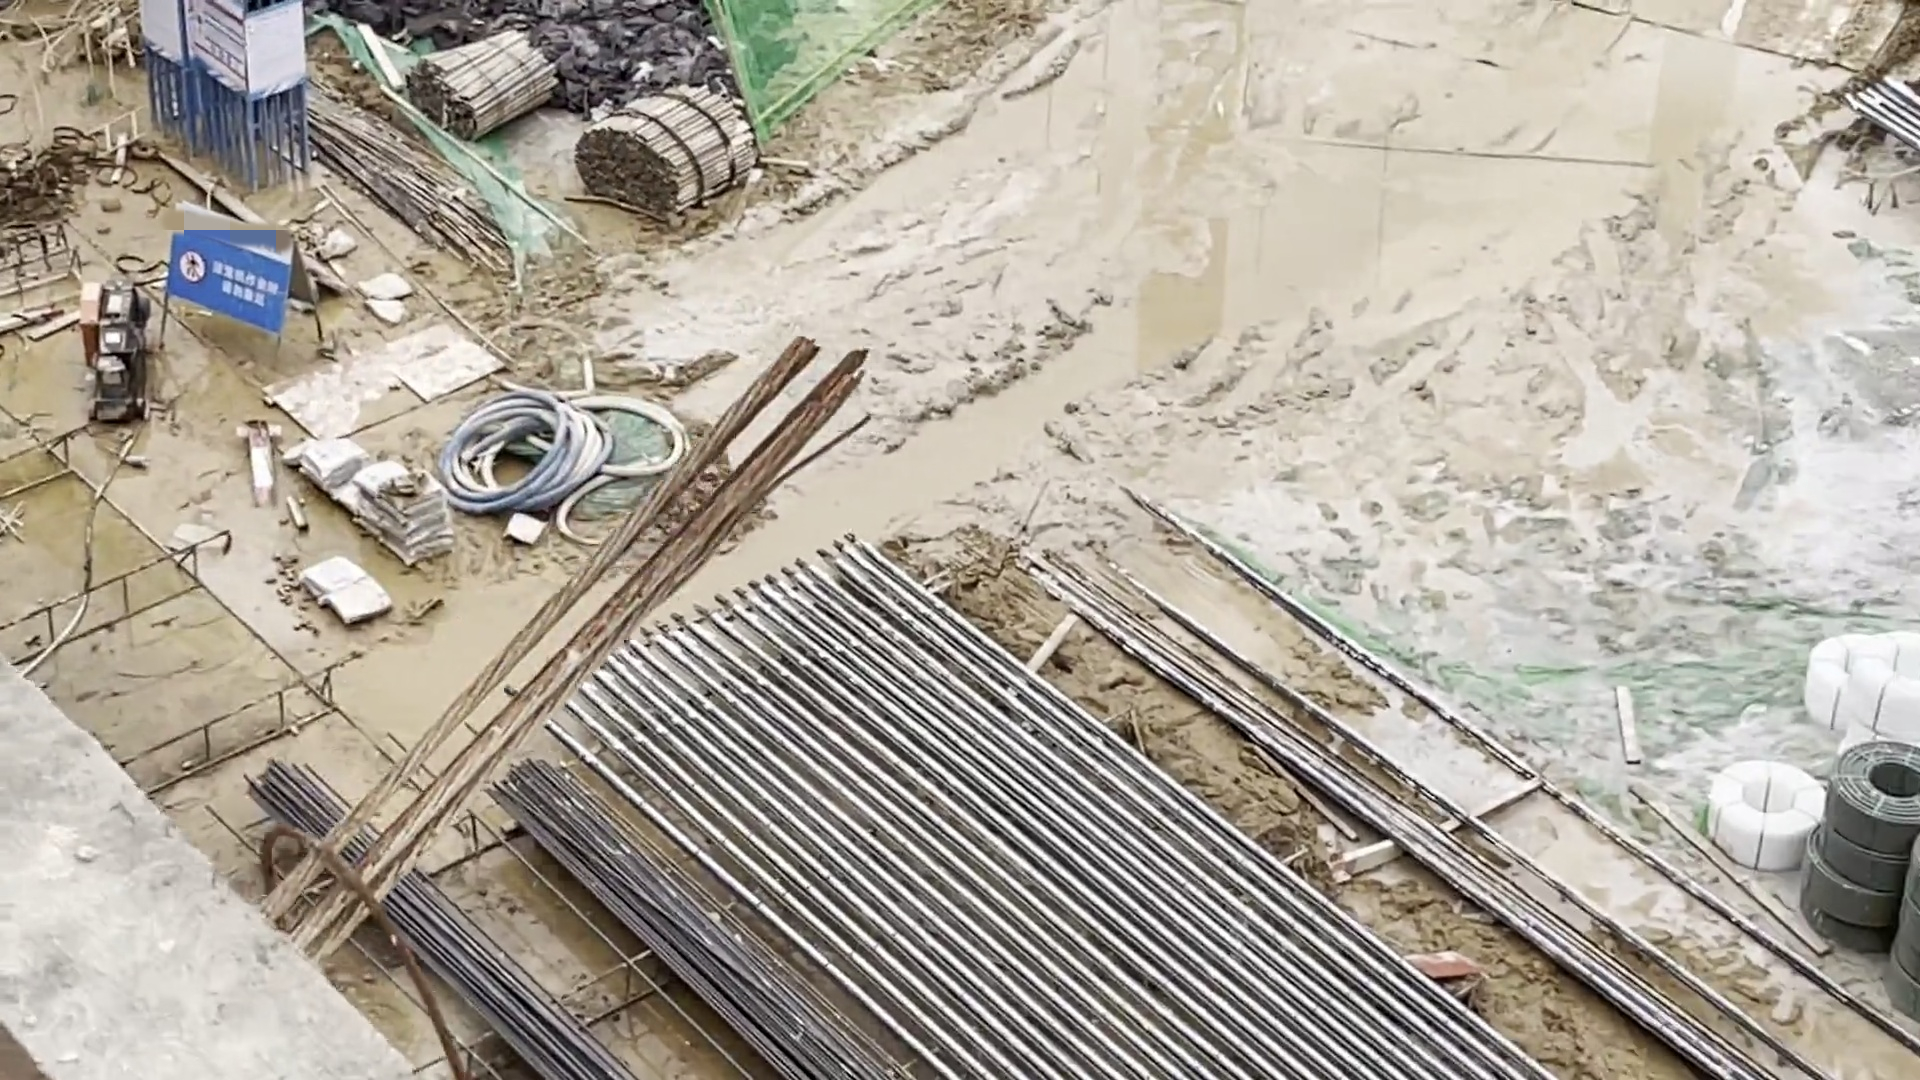rebar: (243, 752, 899, 1080)
slogan: (171, 218, 286, 327)
